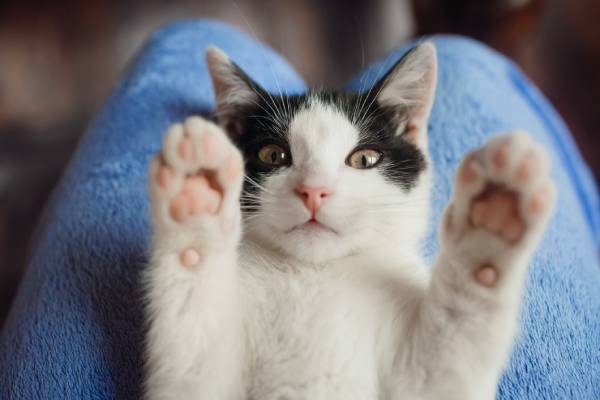cat: (194, 47, 471, 266)
